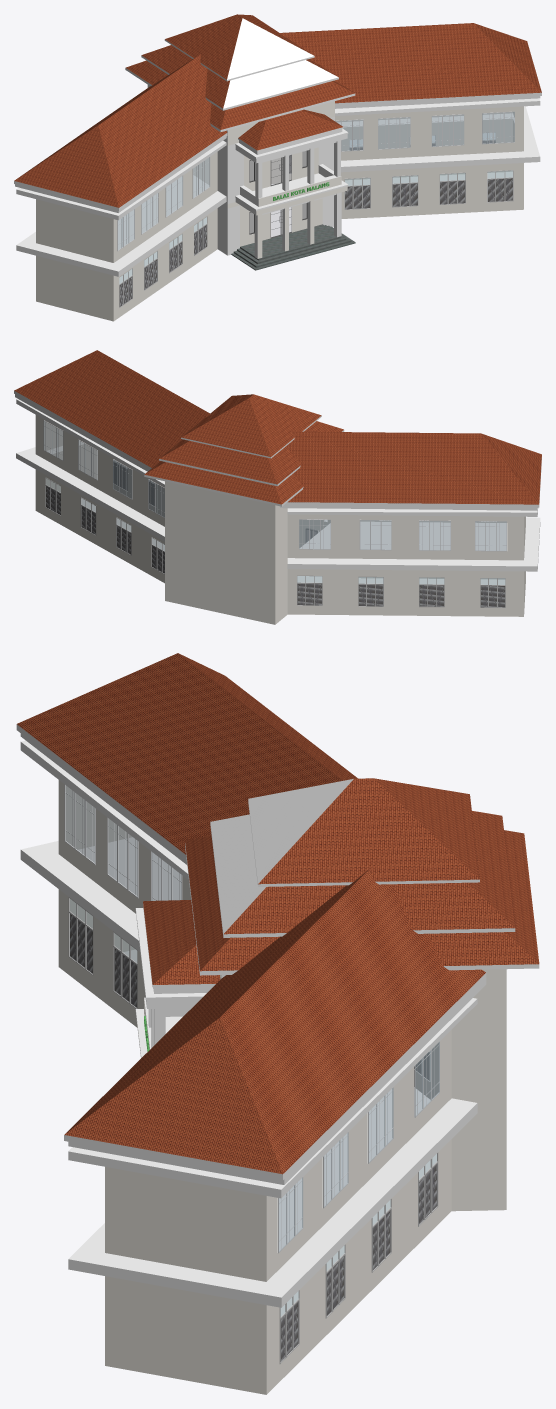
File: gedung_panyawangan.glb
3 renders of one model, top to bottom at view 1: azimuth 30°, elevation 25°; view 2: azimuth 150°, elevation 25°; view 3: azimuth 270°, elevation 25°, orthographic. The views are drawn at different scales.
Parts seen in each view (by area): view 1: Object_11, Object_2, Object_7, Object_14, Object_4, Object_3, Object_15, Object_9, Object_12, Object_13, Object_17; view 2: Object_11, Object_2, Object_7, Object_14, Object_4, Object_15, Object_9, Object_12; view 3: Object_11, Object_2, Object_7, Object_14, Object_4, Object_15, Object_9, Object_12.
Boxes of the visible parts, box(x1,y1,x2,y2) form: Object_11: box(14, 14, 541, 207); Object_2: box(36, 85, 523, 321); Object_7: box(14, 18, 541, 283); Object_14: box(118, 112, 514, 249); Object_4: box(119, 140, 512, 307); Object_3: box(231, 224, 355, 270); Object_15: box(117, 111, 514, 251); Object_9: box(119, 132, 513, 307); Object_12: box(119, 133, 512, 283); Object_13: box(271, 155, 291, 236); Object_17: box(249, 150, 306, 233); Object_11: box(14, 350, 541, 504); Object_2: box(35, 415, 525, 624); Object_7: box(14, 391, 541, 584); Object_14: box(44, 421, 506, 550); Object_4: box(46, 462, 505, 607); Object_15: box(43, 420, 506, 551); Object_9: box(45, 461, 505, 607); Object_12: box(46, 460, 505, 584); Object_11: box(17, 653, 539, 1174); Object_2: box(58, 780, 506, 1394); Object_7: box(16, 724, 539, 1316); Object_14: box(65, 786, 439, 1251); Object_4: box(70, 914, 436, 1361); Object_15: box(64, 784, 439, 1253); Object_9: box(68, 897, 438, 1363); Object_12: box(70, 899, 436, 1316).
Size of the model in its own units: 7130 by 2549 by 3161.
17 materials, 5 textured.
